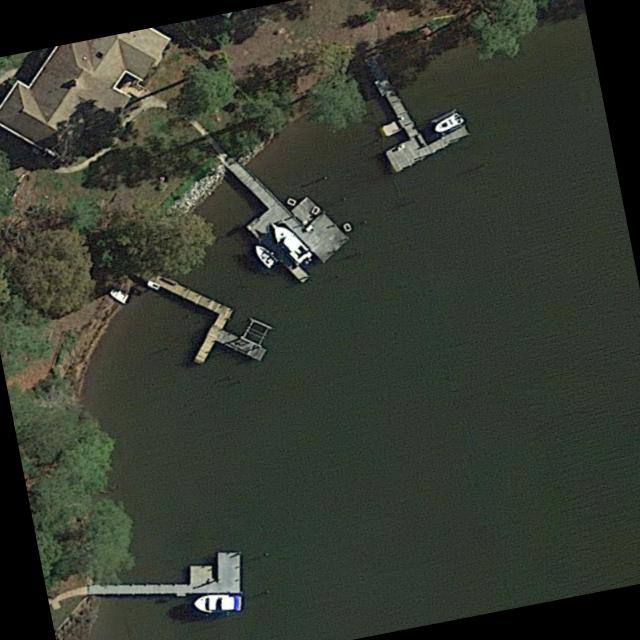ship: (266, 218, 315, 266), (250, 240, 281, 269), (193, 593, 242, 611), (431, 111, 464, 135), (107, 285, 131, 304)
